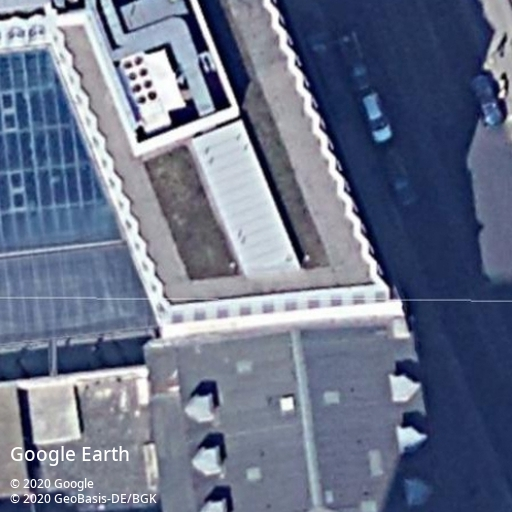Chiller: (118, 48, 172, 134)
